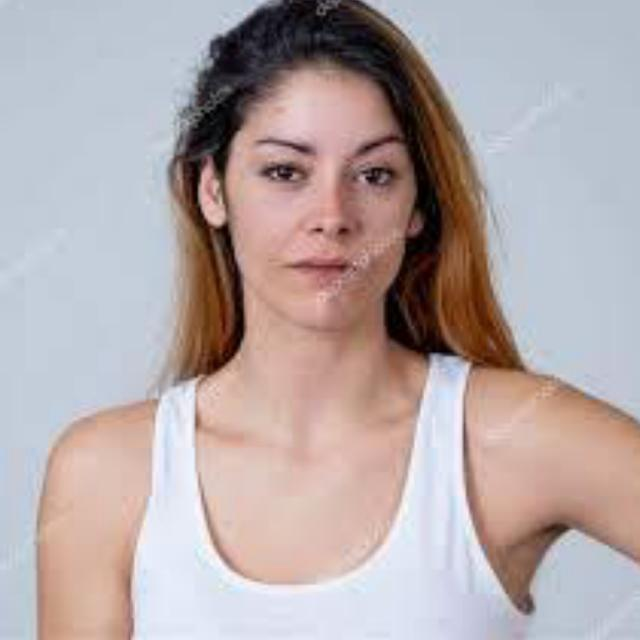Natural: (149, 55, 496, 388)
